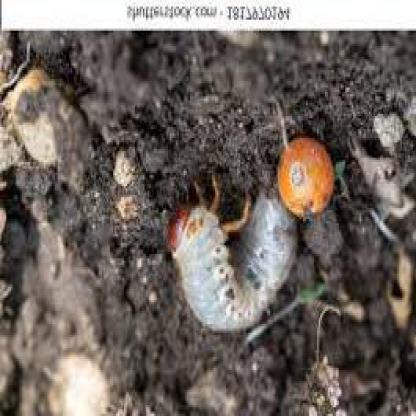root grubs: (165, 186, 299, 334)
